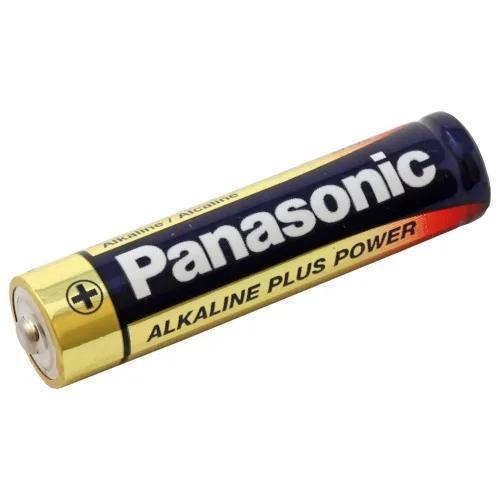AA: (8, 106, 495, 392)
